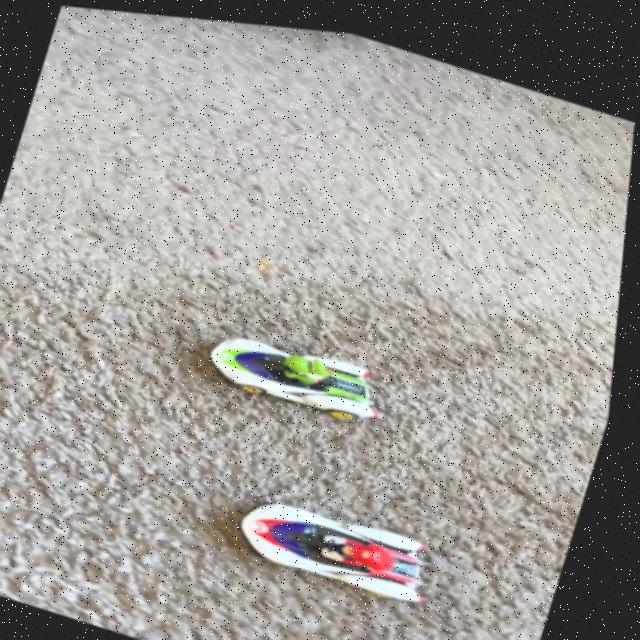mario: (234, 475, 460, 607)
yoshi: (192, 296, 412, 437)
